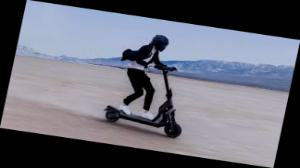helmet: (100, 29, 202, 140)
